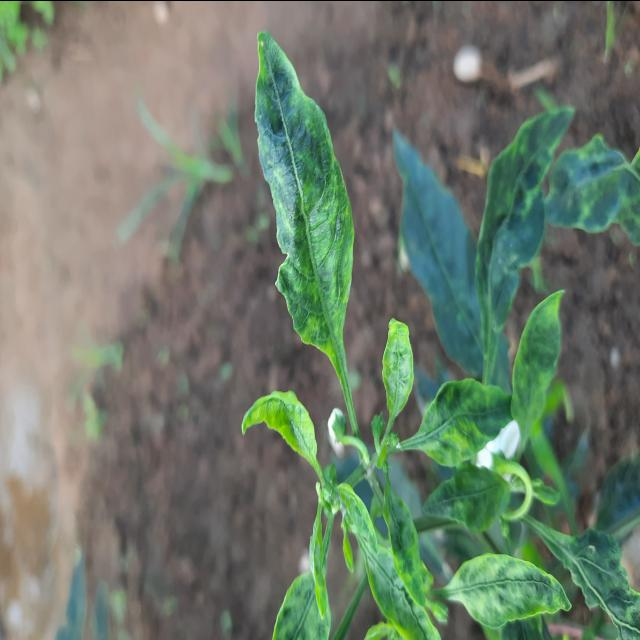thrips: (243, 39, 365, 362), (422, 370, 528, 490), (230, 384, 328, 492)
